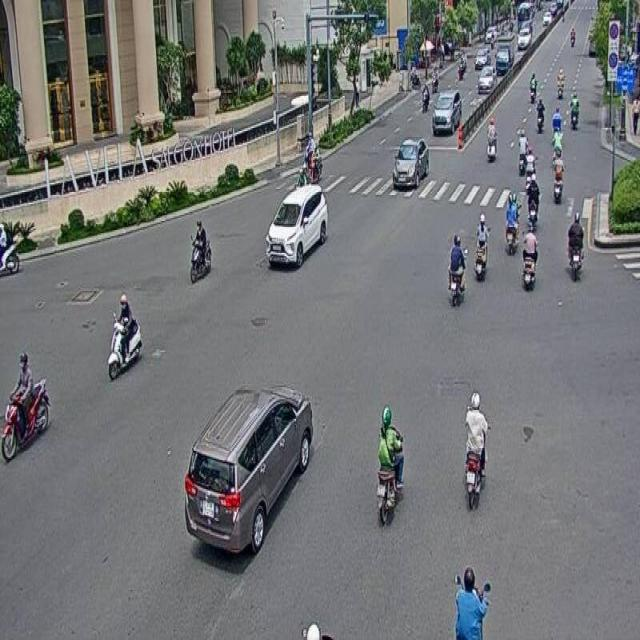car: (184, 385, 318, 567), (265, 188, 327, 266), (392, 134, 430, 194)
motorcycle: (0, 346, 50, 460), (374, 401, 406, 524), (462, 387, 489, 512), (106, 292, 140, 373), (448, 233, 467, 306), (188, 221, 210, 283), (566, 209, 584, 283), (521, 219, 539, 291), (474, 210, 491, 285), (505, 190, 518, 254)
